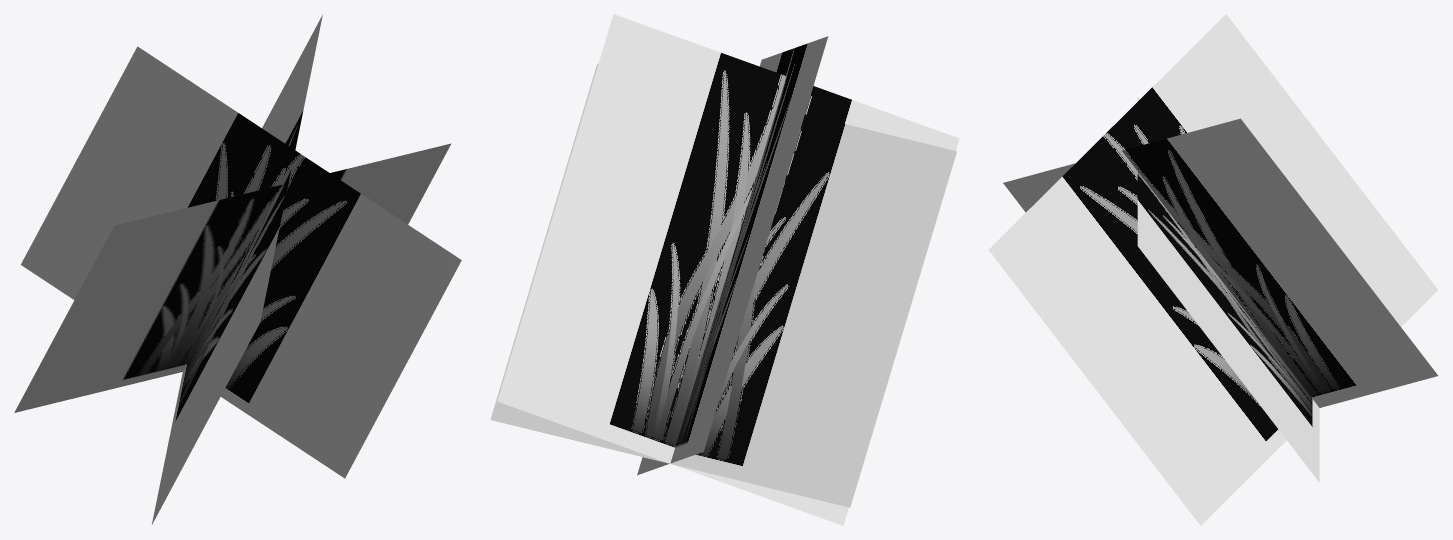
File: Grass.fbx
The picture shows the model from 3 angles, left to right: view 1: azimuth 30°, elevation 25°; view 2: azimuth 150°, elevation 25°; view 3: azimuth 270°, elevation 25°; orthographic projection. The views are drawn at different scales.
Visible parts, largest first — view 1: Plane; view 2: Plane; view 3: Plane.
Part boxes in pixels (bbox=[...]): Plane: bbox=[14, 14, 461, 524]; Plane: bbox=[490, 14, 959, 525]; Plane: bbox=[988, 14, 1438, 525].
Size of the model in its own units: 220 by 293 by 280.
